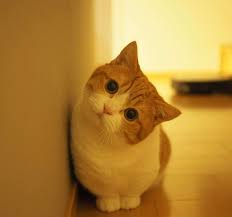cat: (73, 32, 184, 144)
